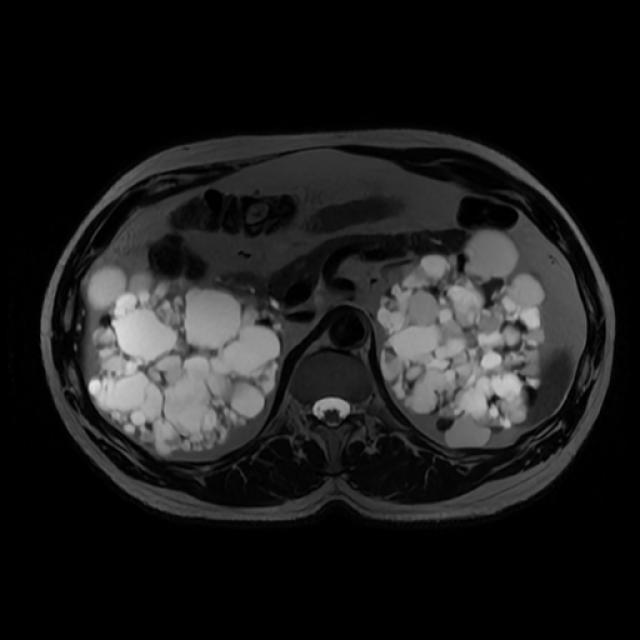sag: (85, 262, 284, 458)
sol: (377, 227, 548, 450)
